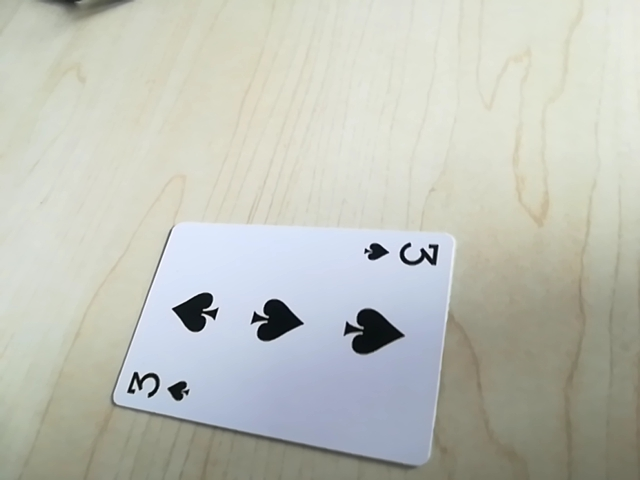ht 3: (117, 363, 195, 406), (361, 234, 447, 273)
